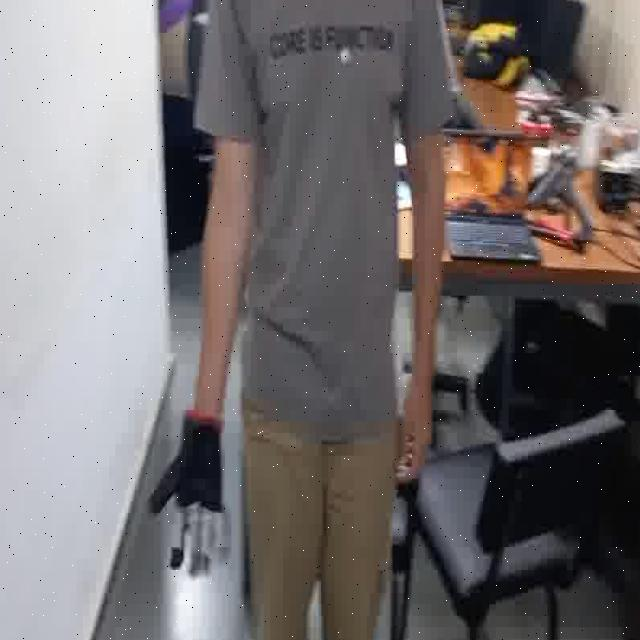Gloves: (149, 410, 240, 587)
